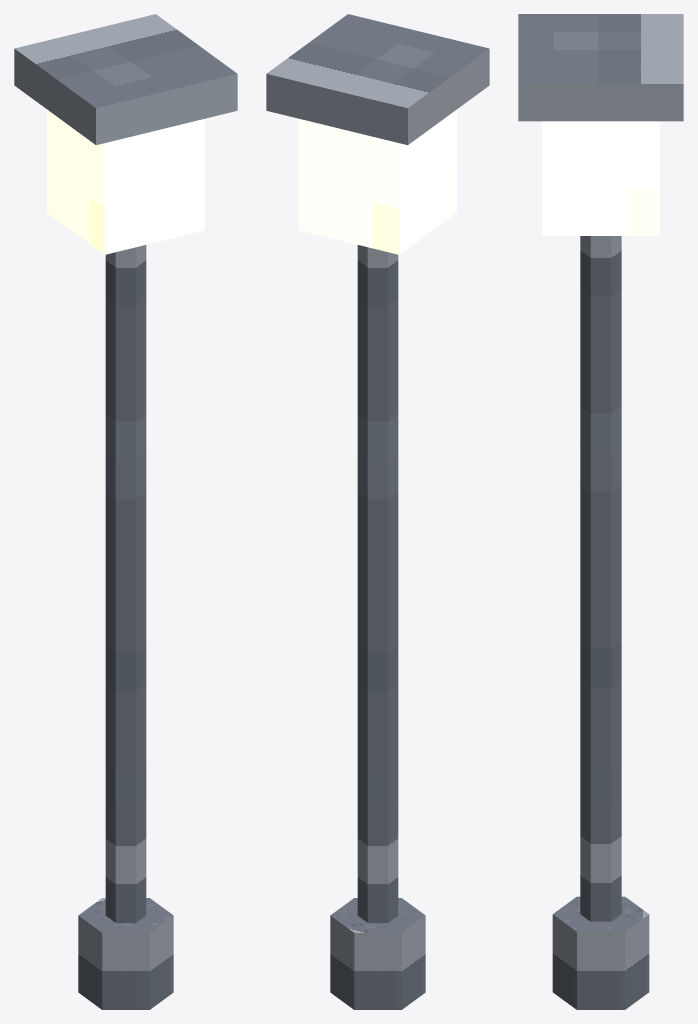
File: lamp.glb
3 renders of one model, left to right at view 1: azimuth 30°, elevation 25°; view 2: azimuth 150°, elevation 25°; view 3: azimuth 270°, elevation 25°, orthographic.
Visible parts, largest first — view 1: lamp; view 2: lamp; view 3: lamp.
Boxes of the visible parts, <box> form: lamp: <box>14,14,237,1009</box>; lamp: <box>266,14,489,1009</box>; lamp: <box>518,14,683,1009</box>.
Size of the model in its own units: 0.48 by 3.02 by 0.48.
Materials: 2 (2 with a texture image).
